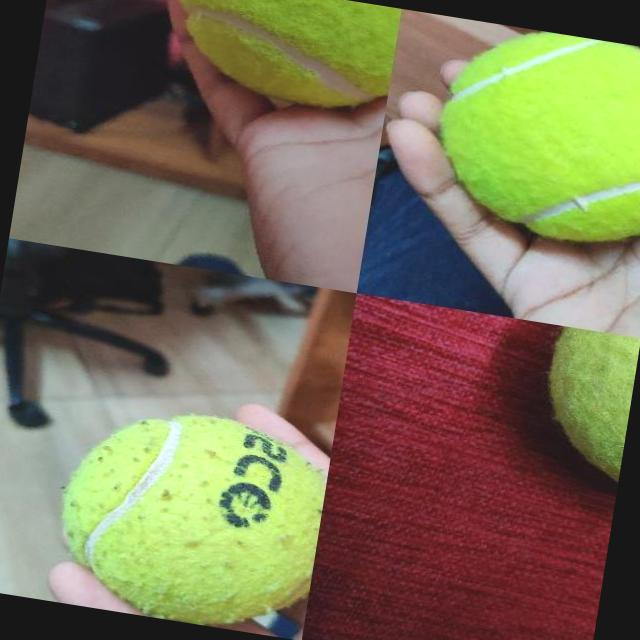Tennis Ball: (43, 393, 334, 640), (428, 18, 640, 252), (165, 0, 402, 115)
